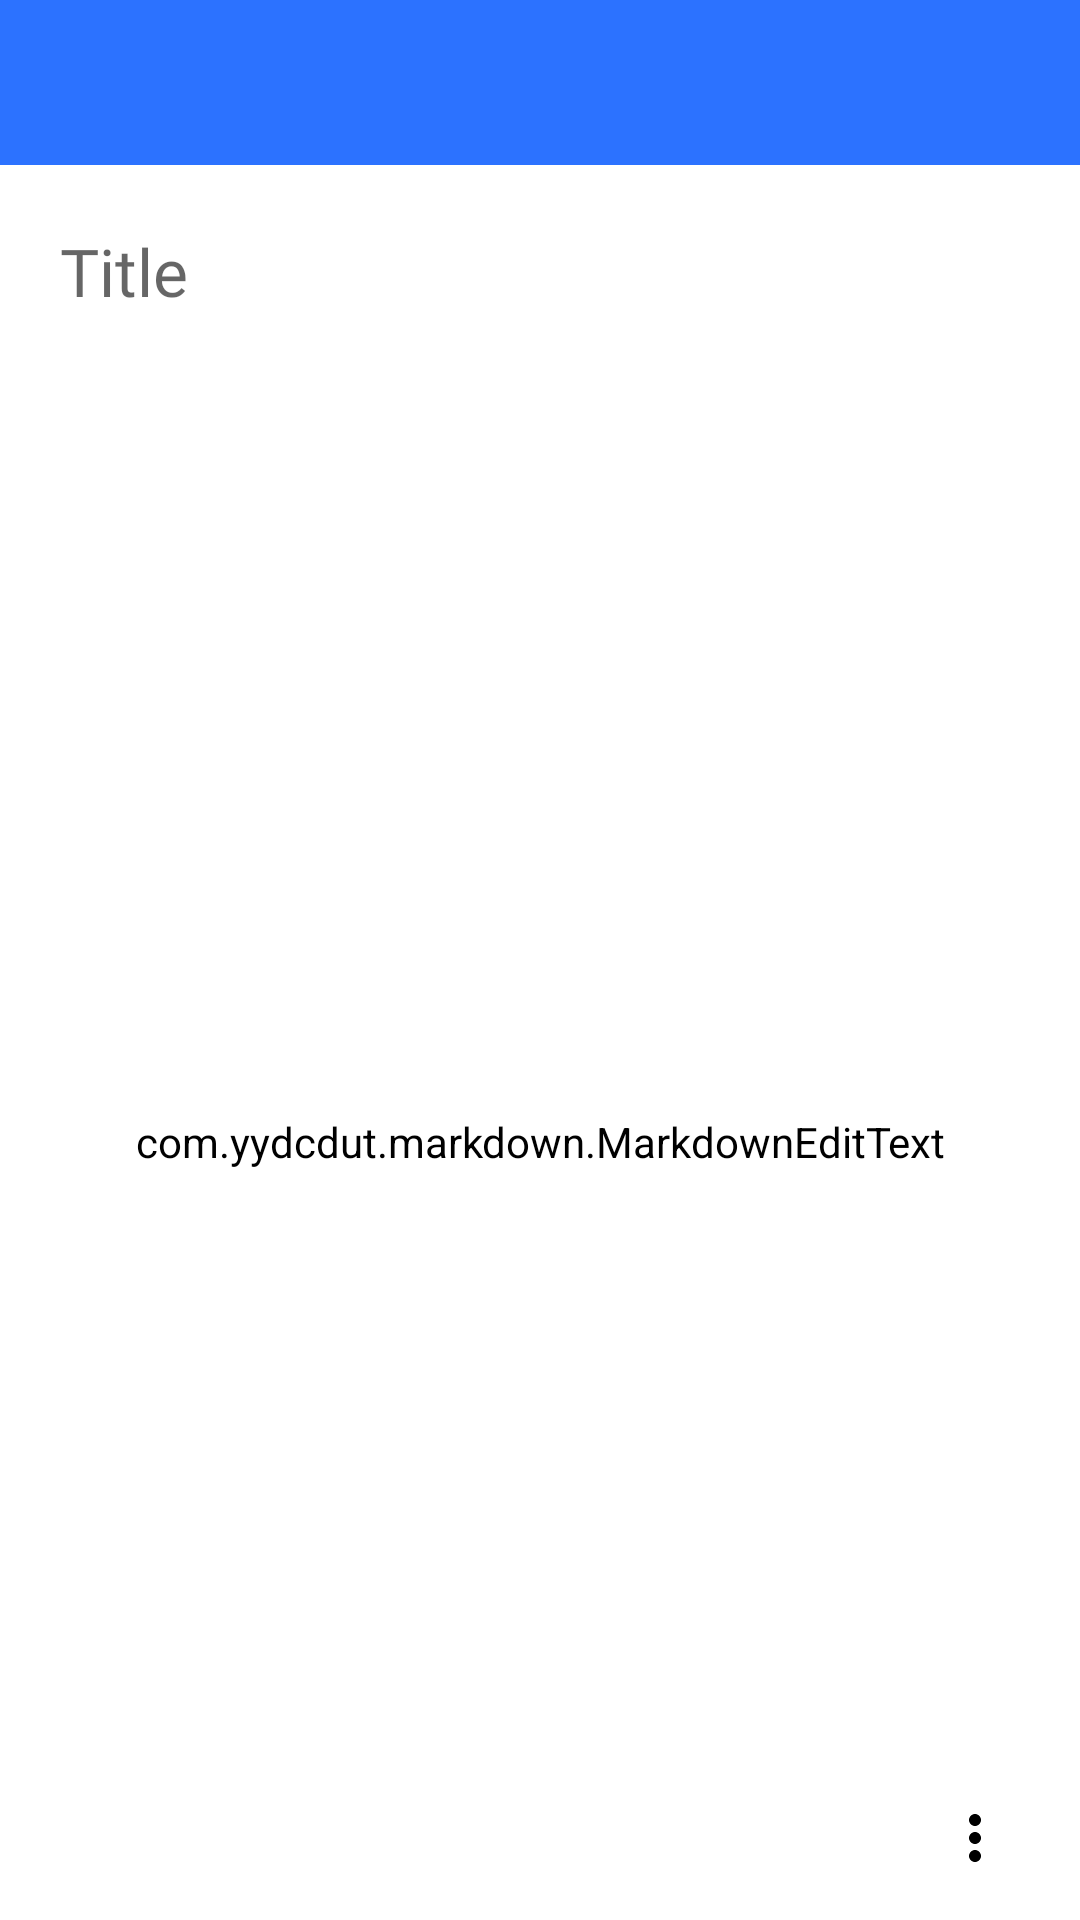

Locate icon controls on the screen. Image size 1080x1920, boxes as (x1, y1, x2, y2).
more vert: (969, 1814, 981, 1862)
